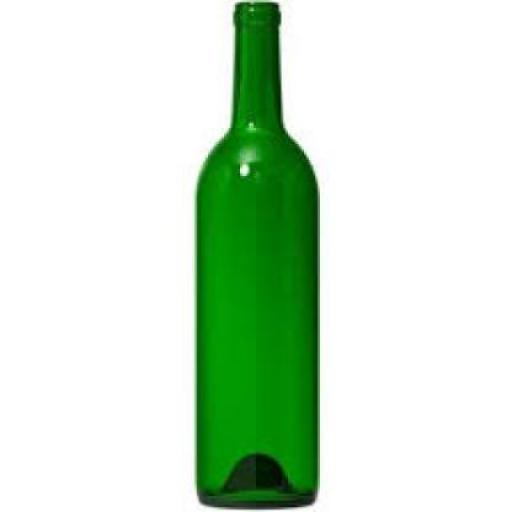glass: (198, 0, 323, 506)
